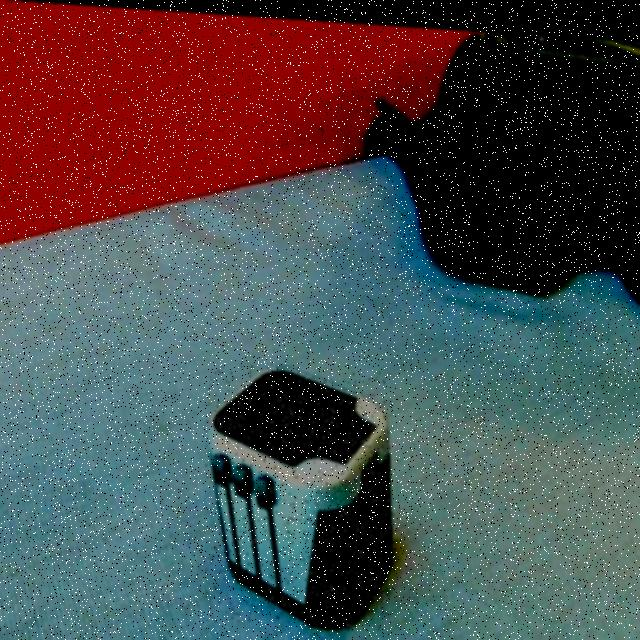adapter: (206, 357, 393, 628)
